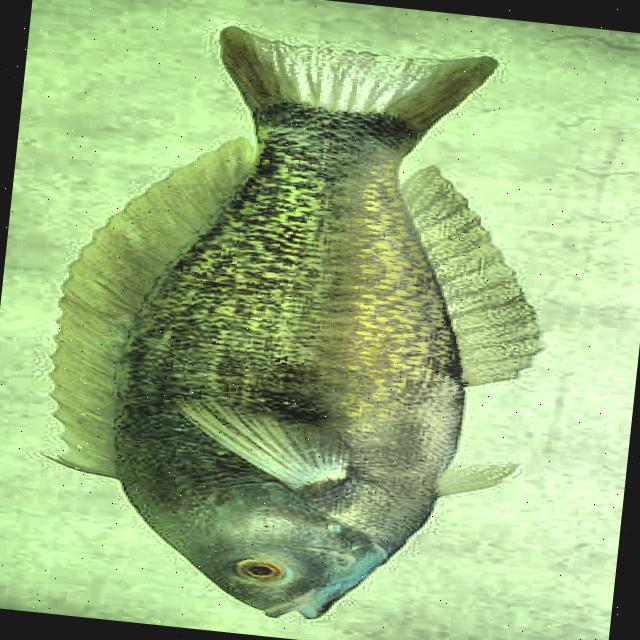fish: (23, 6, 578, 640)
